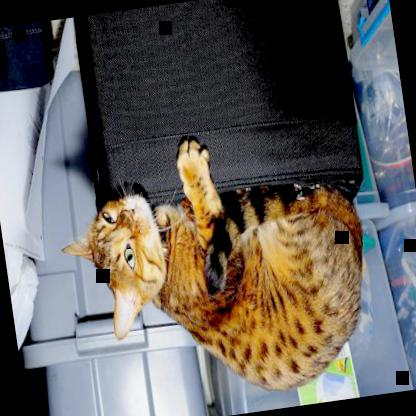cat: (47, 119, 384, 415)
